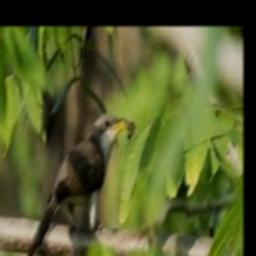Cuckoo: (27, 114, 133, 256)
